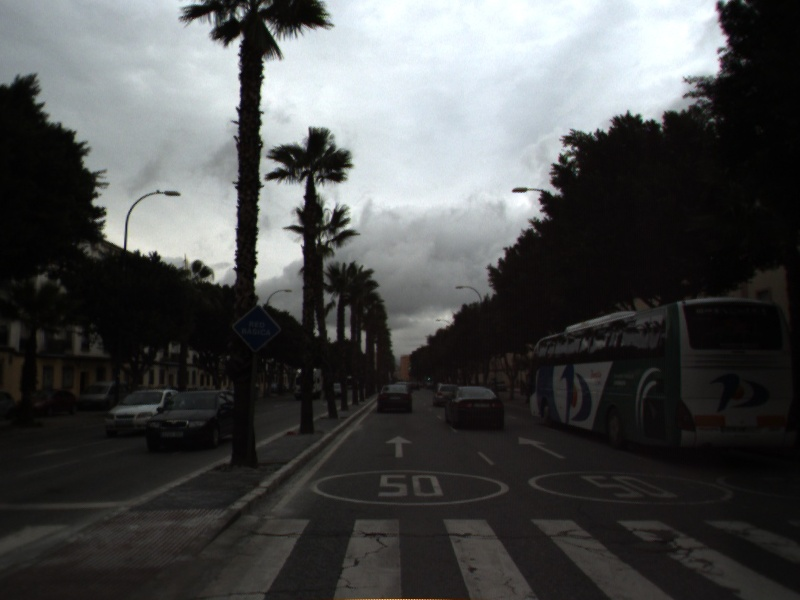STRAIGHT: (516, 434, 569, 461), (383, 433, 415, 459)
